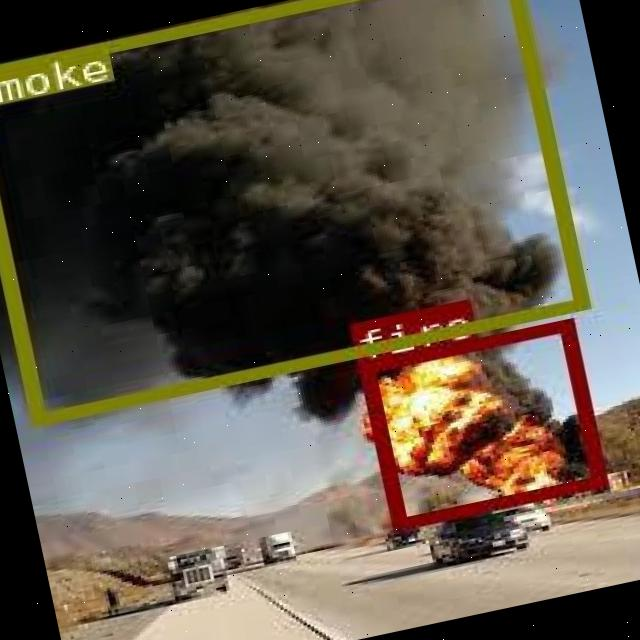fire: (355, 318, 603, 529)
smoke: (0, 0, 586, 426)
